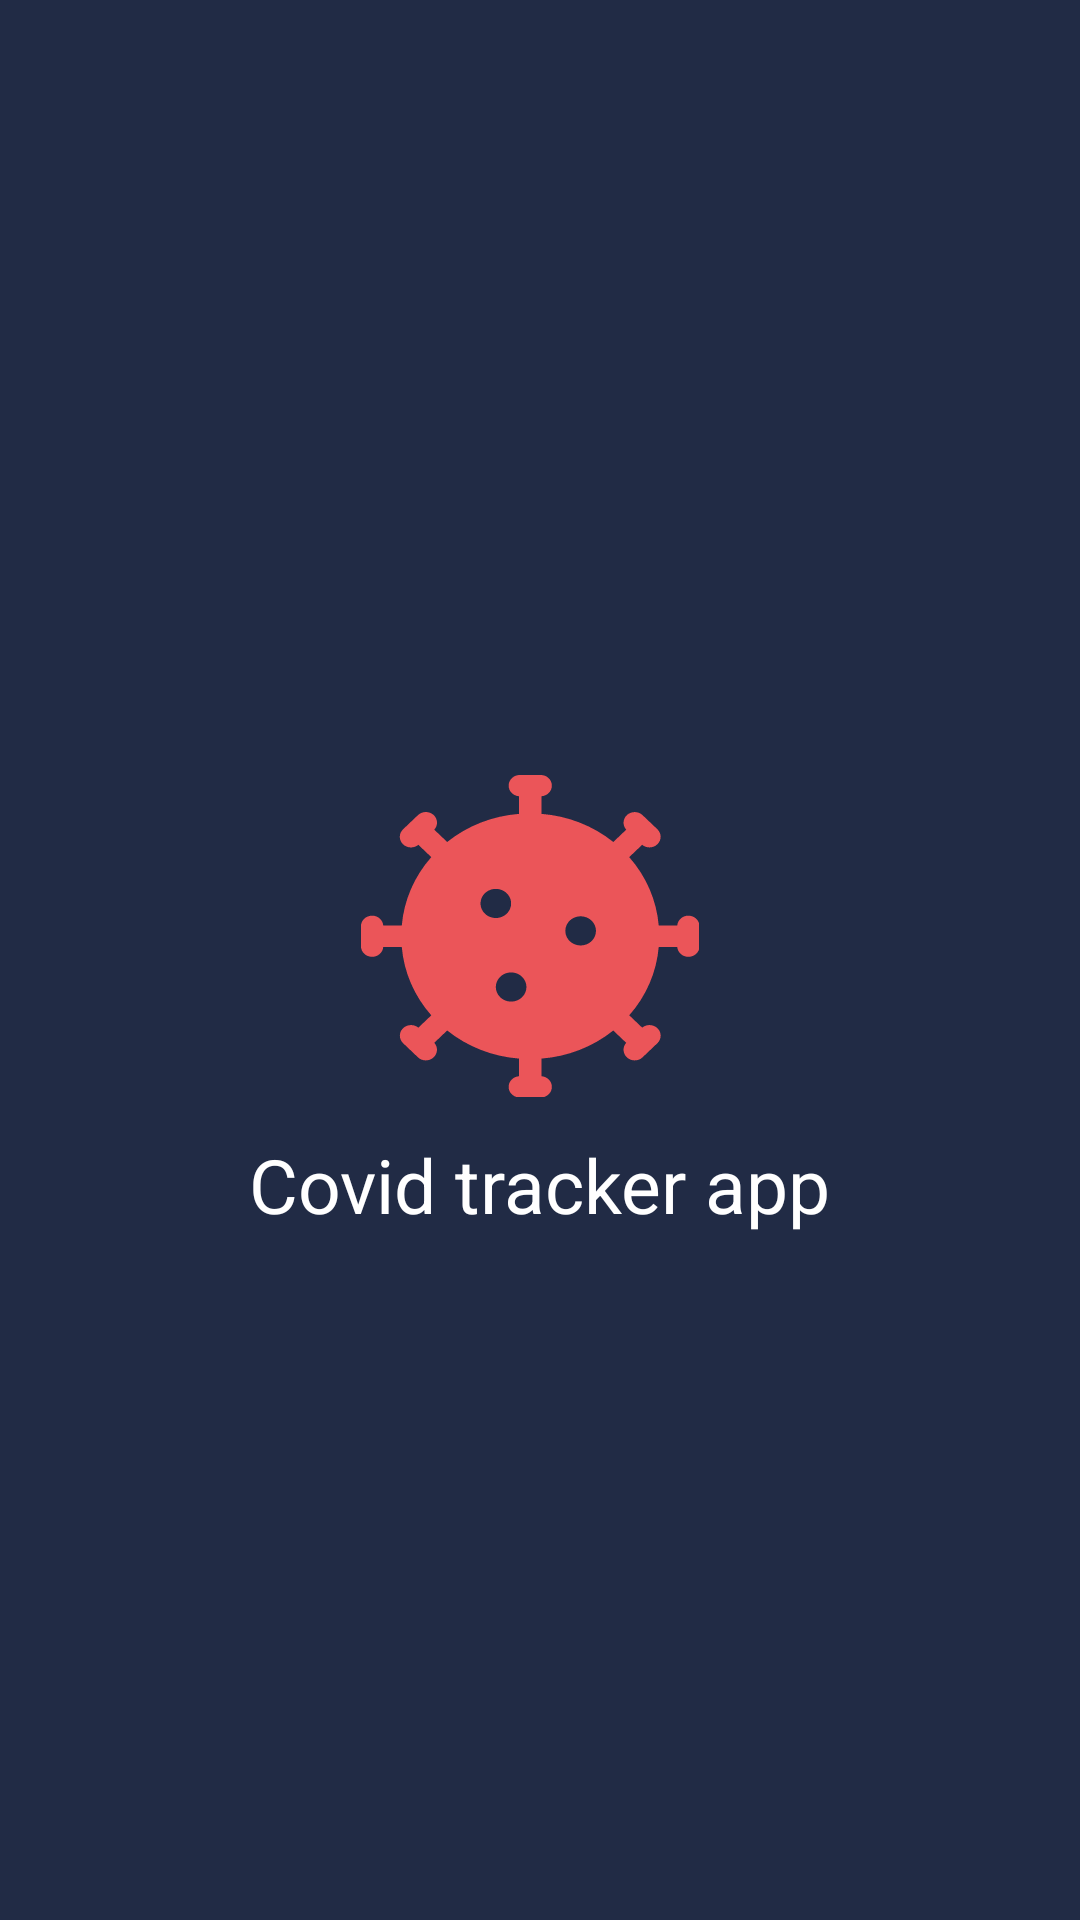

Where to tap for icons on this 1080w x 1920h app screen, as (x=x, y=y):
virus: (x=530, y=936)
